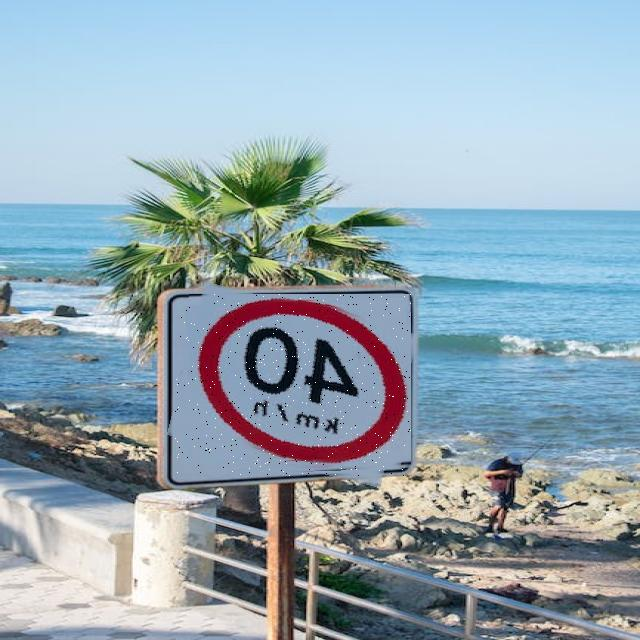speed limit 40: (175, 294, 411, 476)
